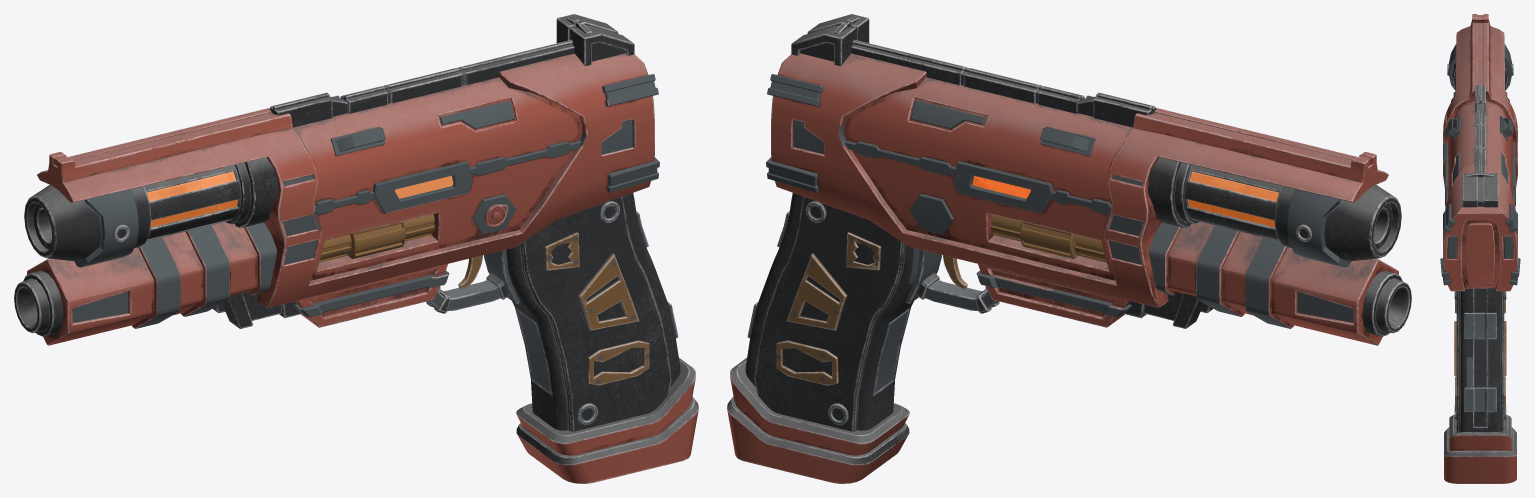
The model's file is SciFiPistol.fbx.
3 views of the same model, side by side, from view 1: azimuth 30°, elevation 25°; view 2: azimuth 150°, elevation 25°; view 3: azimuth 270°, elevation 25° (orthographic). The views are drawn at different scales.
Visible parts, largest first — view 1: SciFiPistol; view 2: SciFiPistol; view 3: SciFiPistol.
Boxes of the visible parts, x1,y1,x2,y2 form: SciFiPistol: (14, 14, 698, 483); SciFiPistol: (727, 14, 1411, 483); SciFiPistol: (1440, 14, 1520, 483).
Bounding box in the file's own units: 25.54 × 16.34 × 4.21.
